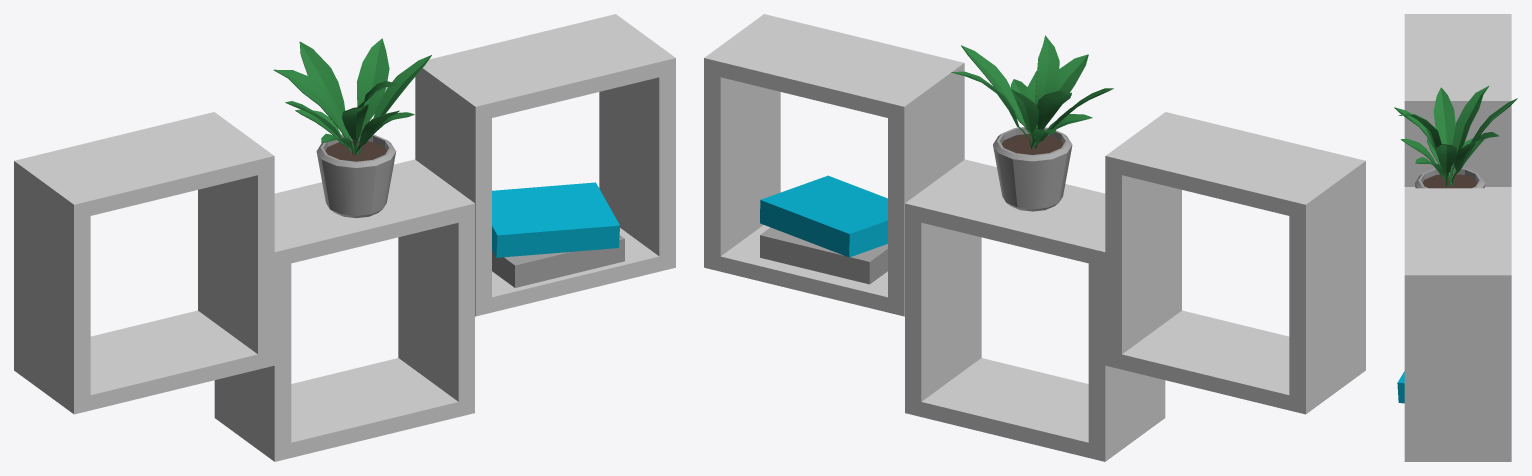
The model's file is etagere mur.fbx.
3 views of the same model, side by side, from view 1: azimuth 30°, elevation 25°; view 2: azimuth 150°, elevation 25°; view 3: azimuth 270°, elevation 25° (orthographic). The views are drawn at different scales.
Parts seen in each view (by area): view 1: etagere_mur; view 2: etagere_mur; view 3: etagere_mur.
Boxes of the visible parts, left/top/right/bottom form: etagere_mur: left=14, top=14, right=675, bottom=461; etagere_mur: left=704, top=14, right=1365, bottom=461; etagere_mur: left=1394, top=14, right=1517, bottom=461.
Size of the model in its own units: 1.93 by 1.08 by 0.3867.
